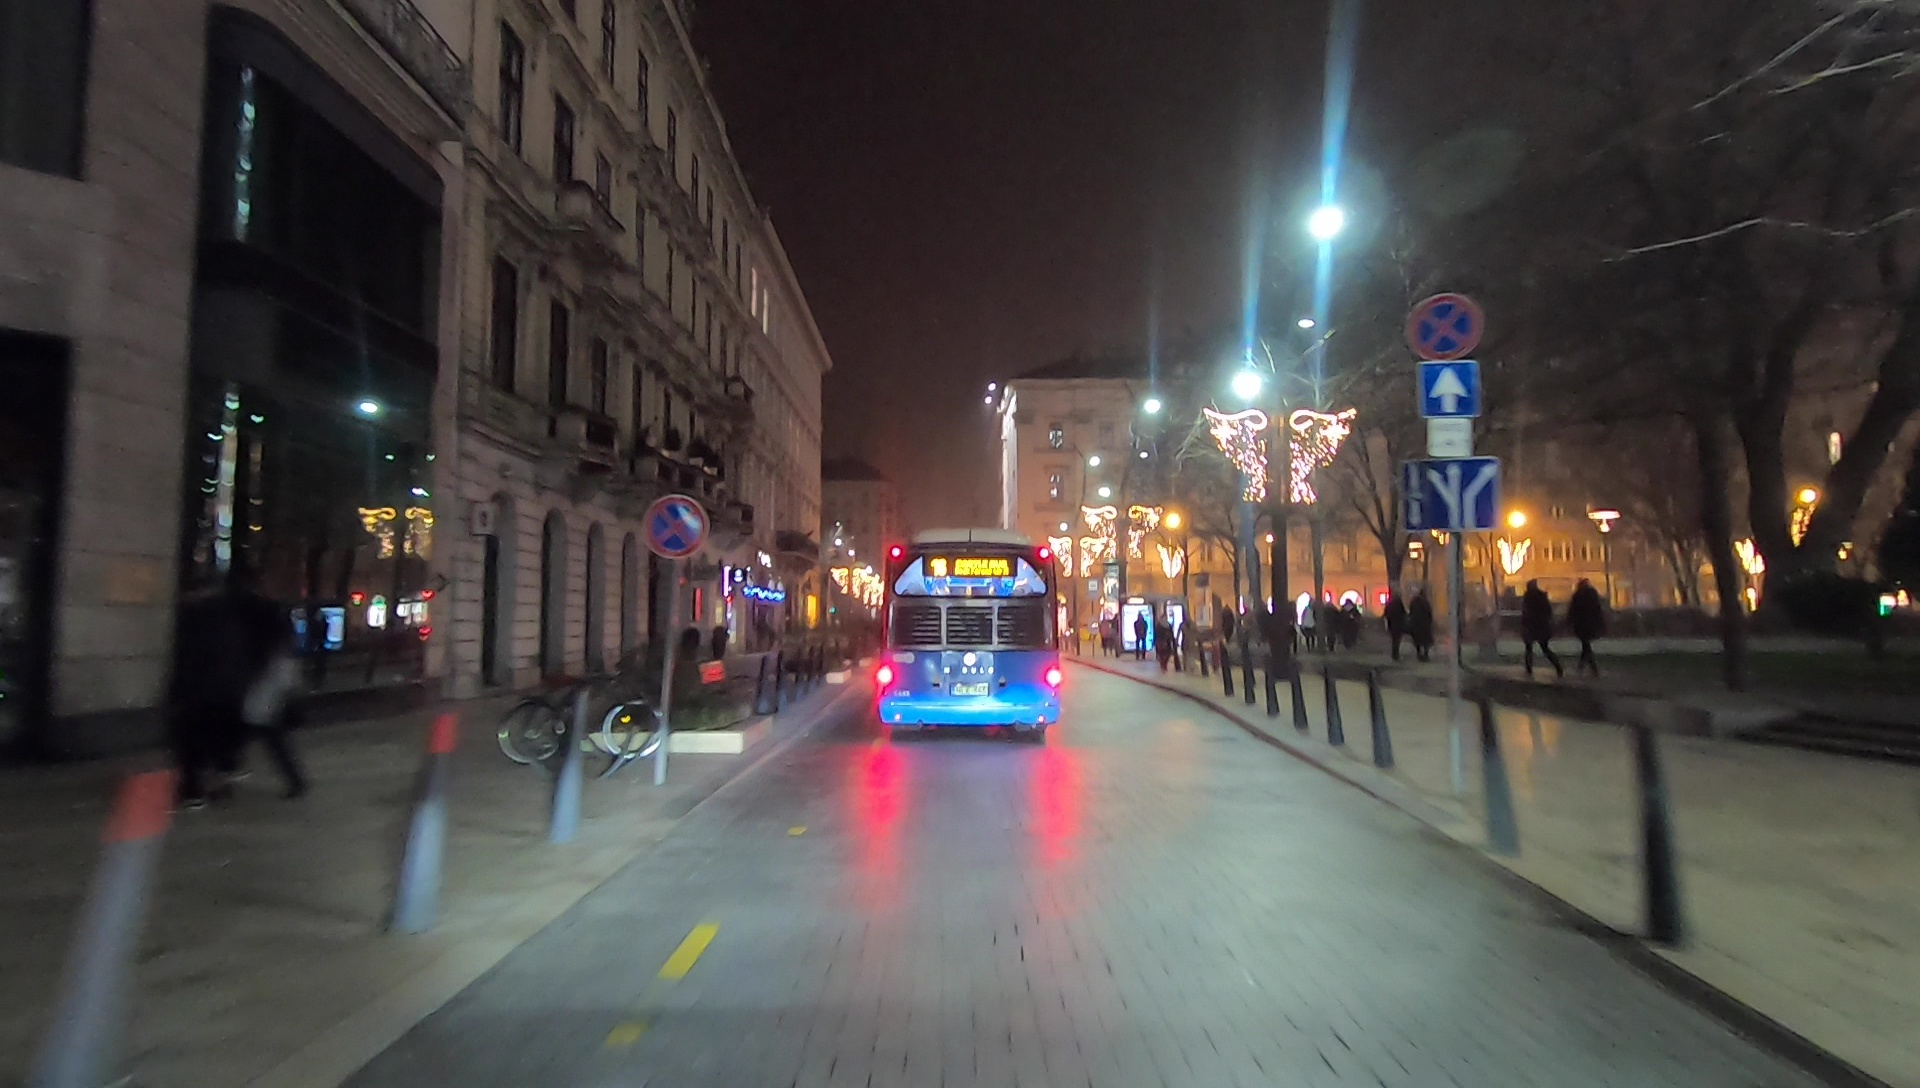person: (208, 554, 319, 806), (1513, 579, 1564, 678), (1569, 575, 1606, 677), (1383, 589, 1409, 659), (1412, 589, 1433, 662), (1341, 598, 1361, 651), (1157, 613, 1173, 668), (1322, 595, 1340, 648), (1297, 599, 1315, 647), (1217, 600, 1236, 645), (1135, 613, 1148, 657)
